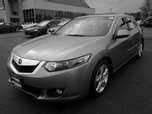car: (7, 15, 147, 105)
